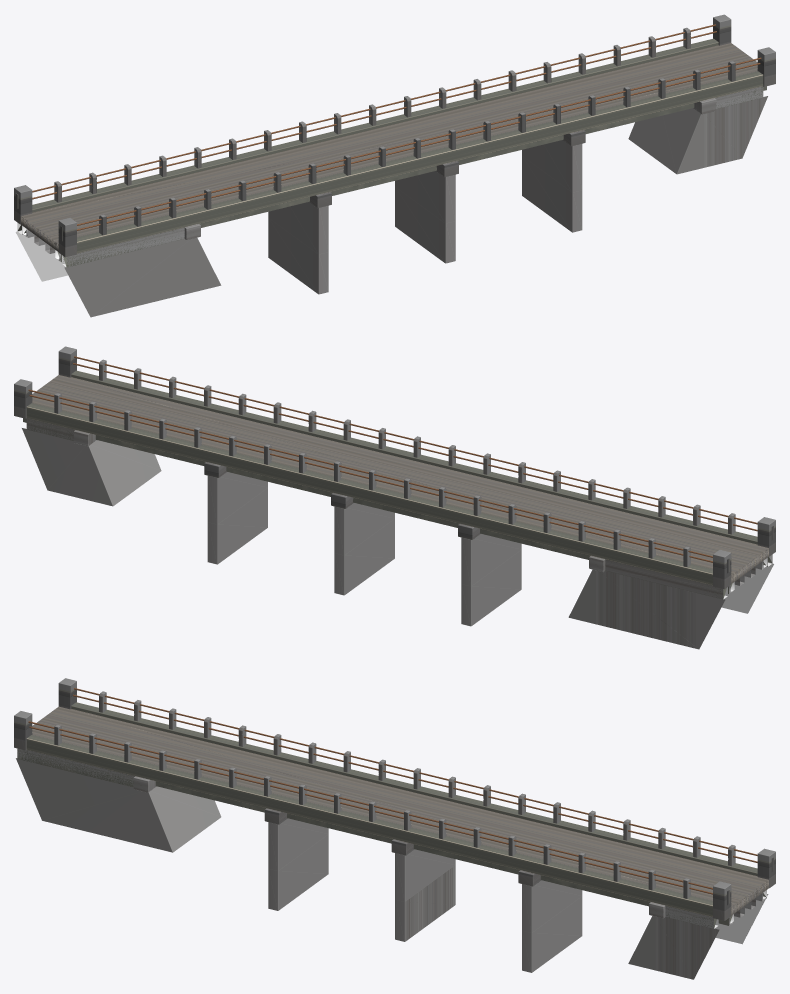
Rendered from objects_un_dlc1_t10bridge01.gltf.
3 renders of one model, top to bottom at view 1: azimuth 30°, elevation 25°; view 2: azimuth 150°, elevation 25°; view 3: azimuth 330°, elevation 25°, orthographic.
Parts seen in each view (by area): view 1: um_objects_un_dlc1_t10bridge01_model_lod0Shape:objects_un_dl (×6), um_objects_un_dlc1_t10bridge01_model_lod2Shape:objects_un_dl; view 2: um_objects_un_dlc1_t10bridge01_model_lod0Shape:objects_un_dl (×6), um_objects_un_dlc1_t10bridge01_model_lod2Shape:objects_un_dl; view 3: um_objects_un_dlc1_t10bridge01_model_lod0Shape:objects_un_dl (×6), um_objects_un_dlc1_t10bridge01_model_lod2Shape:objects_un_dl.
Part boxes in pixels (bbox=[...]): um_objects_un_dlc1_t10bridge01_model_lod0Shape:objects_un_dl (×6): bbox=[14, 14, 775, 317]; um_objects_un_dlc1_t10bridge01_model_lod2Shape:objects_un_dl: bbox=[18, 86, 766, 267]; um_objects_un_dlc1_t10bridge01_model_lod0Shape:objects_un_dl (×6): bbox=[14, 346, 775, 649]; um_objects_un_dlc1_t10bridge01_model_lod2Shape:objects_un_dl: bbox=[23, 418, 772, 599]; um_objects_un_dlc1_t10bridge01_model_lod0Shape:objects_un_dl (×6): bbox=[14, 678, 775, 979]; um_objects_un_dlc1_t10bridge01_model_lod2Shape:objects_un_dl: bbox=[17, 749, 766, 928].
Size of the model in its own units: 40.76 by 7.19 by 5.24.
Materials: 6 (5 with a texture image).
